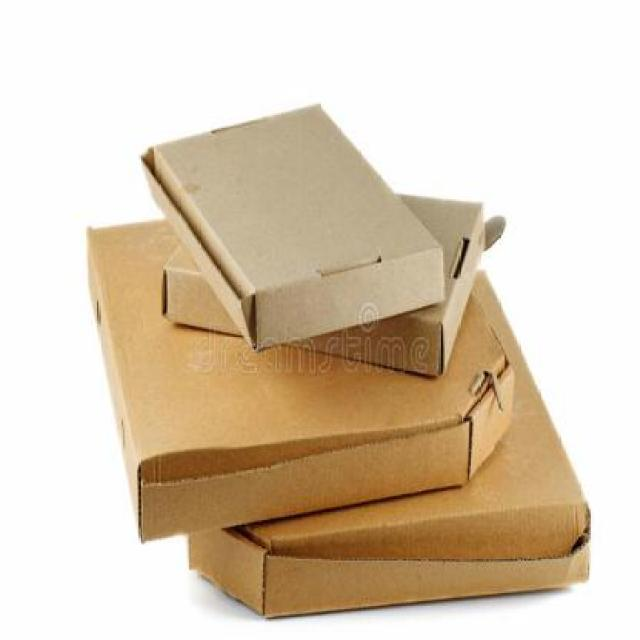box: (181, 252, 636, 628), (70, 218, 544, 560), (134, 98, 448, 359), (156, 173, 495, 391)
